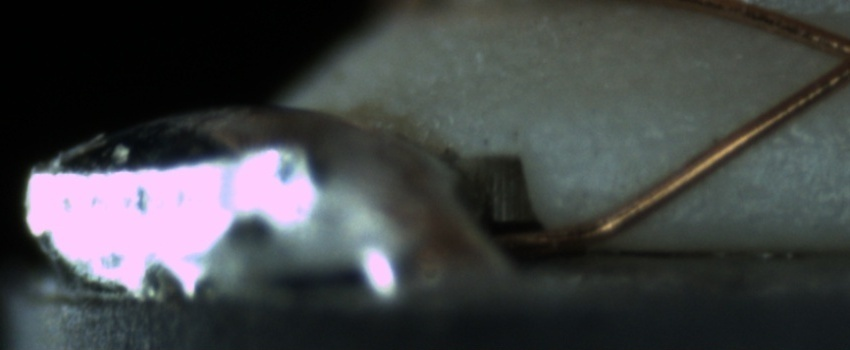CL: (805, 21, 850, 94)
